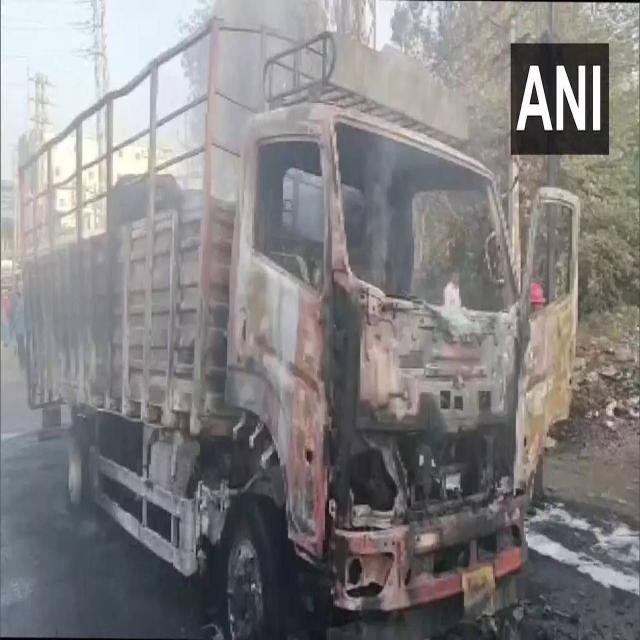accident: (20, 20, 580, 636)
